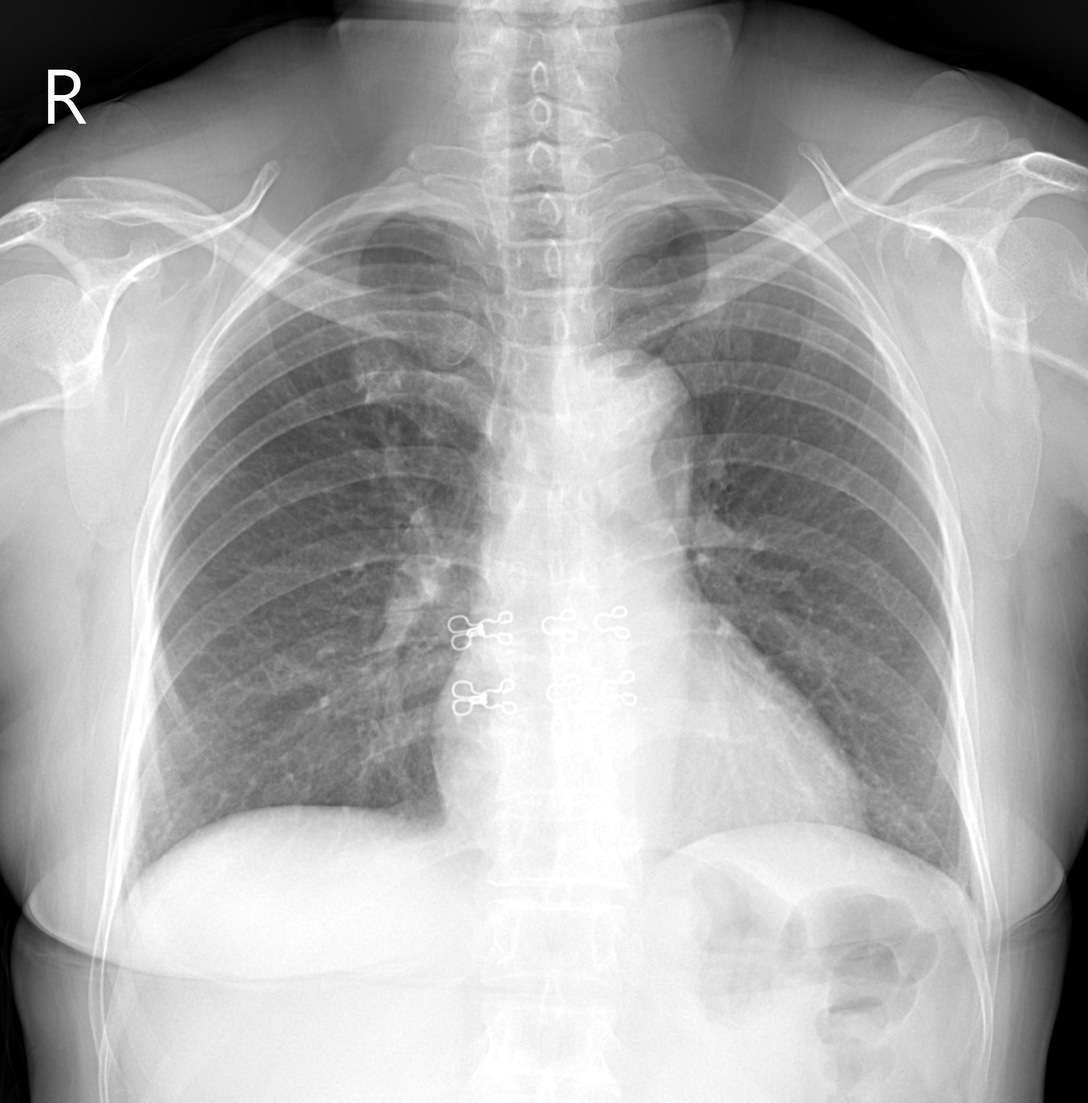Aortic enlargement: (562, 354, 694, 459)
